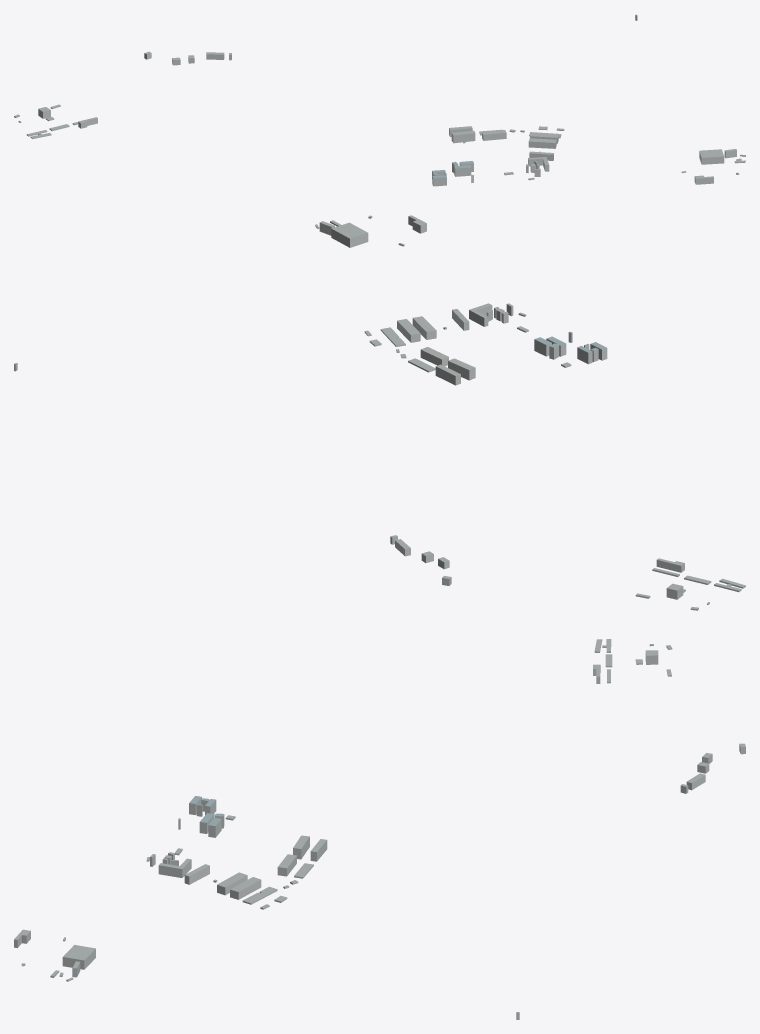
Rendered from far.glb.
The picture shows the model from 3 angles, top to bottom: view 1: azimuth 30°, elevation 25°; view 2: azimuth 150°, elevation 25°; view 3: azimuth 270°, elevation 25°; orthographic projection. The views are drawn at different scales.
Size of the model in its own units: 1374 by 20.7 by 1121.
